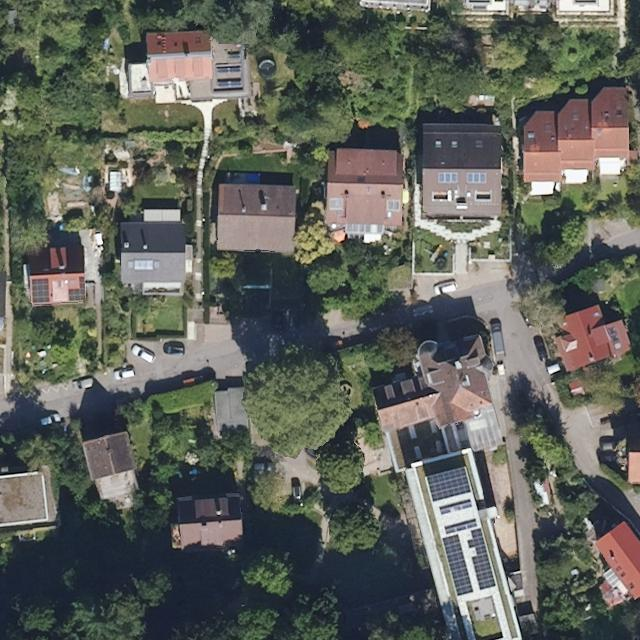PV: (441, 534, 475, 597), (467, 527, 496, 591), (426, 466, 472, 502), (444, 519, 478, 536), (439, 500, 473, 516), (32, 278, 50, 304), (68, 276, 86, 301), (134, 259, 154, 271), (468, 172, 486, 183), (438, 172, 457, 182), (329, 197, 343, 210), (388, 199, 399, 211)
